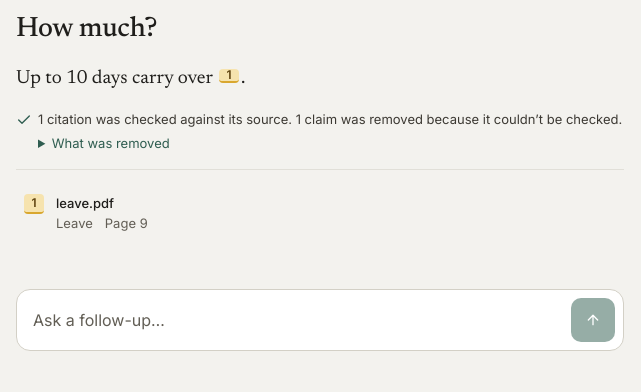
Conversation › fades out an unsupported claim, then shows what was removed and why
Expected: the text "1 citation was checked against its source. 1 claim was removed because it couldn’t be checked." is shown, [38,111,622,127]
Click the heading "What was removed".
click(111, 143)  # box [52,135,170,151]
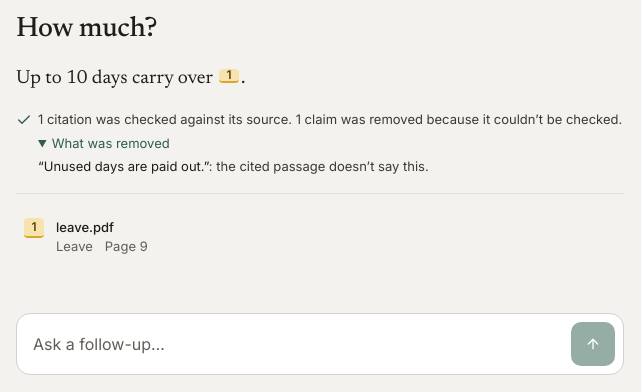
Now the text "“Unused days are paid out.”" is shown, box [38,158,209,174]
